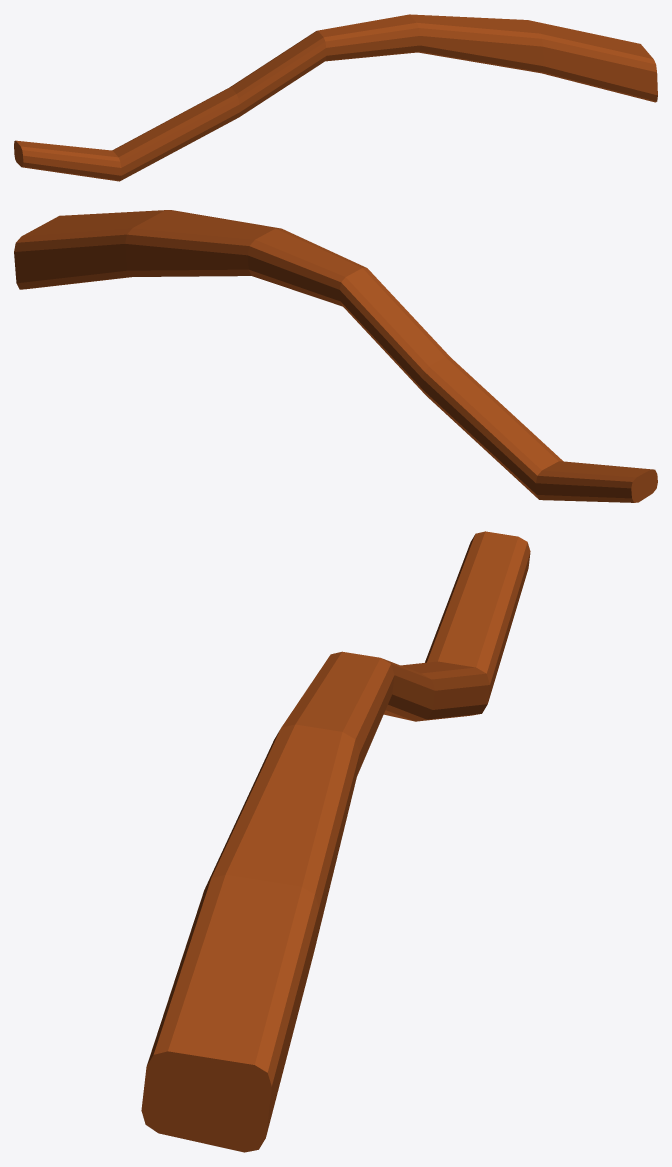
File: agacdal3.fbx
The picture shows the model from 3 angles, top to bottom: view 1: azimuth 30°, elevation 25°; view 2: azimuth 150°, elevation 25°; view 3: azimuth 270°, elevation 25°; orthographic projection. The views are drawn at different scales.
Visible parts, largest first — view 1: Cylinder.010; view 2: Cylinder.010; view 3: Cylinder.010.
Part boxes in pixels (box(x1,y1,x2,y2)): Cylinder.010: box(14, 14, 657, 181); Cylinder.010: box(14, 210, 657, 502); Cylinder.010: box(141, 531, 530, 1152).
Bounding box in the file's own units: 5.25 × 1.08 × 1.56.
